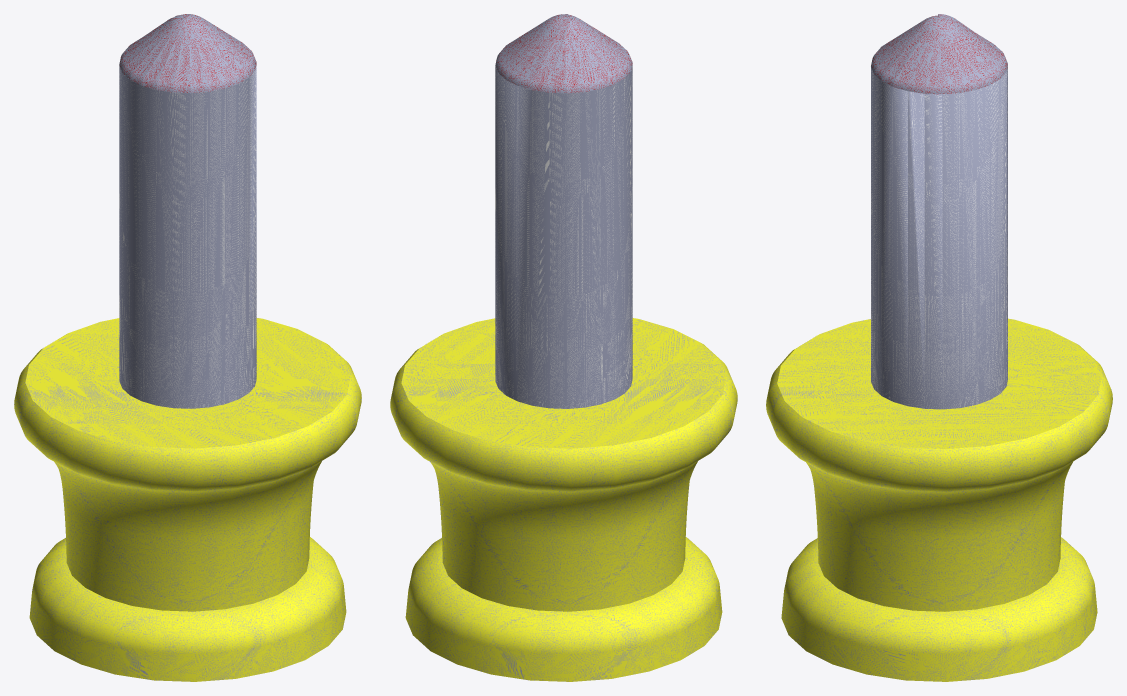
The picture shows the model from 3 angles, left to right: view 1: azimuth 30°, elevation 25°; view 2: azimuth 150°, elevation 25°; view 3: azimuth 270°, elevation 25°; orthographic projection.
Visible parts, largest first — view 1: Model; view 2: Model; view 3: Model.
Boxes of the visible parts, left/top/right/bottom form: Model: left=14, top=14, right=361, bottom=681; Model: left=390, top=14, right=737, bottom=681; Model: left=766, top=14, right=1112, bottom=681.
Bounding box in the file's own units: 4.01 × 7.62 × 4.01.
